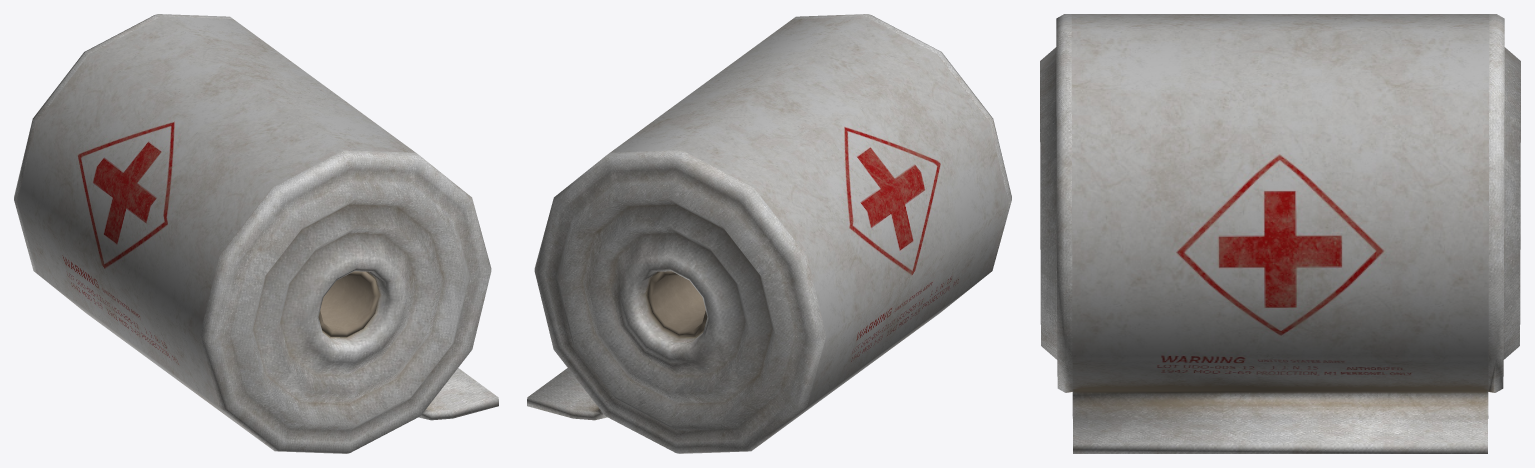
The model's file is bandage_roll.glb.
The picture shows the model from 3 angles, left to right: view 1: azimuth 30°, elevation 25°; view 2: azimuth 150°, elevation 25°; view 3: azimuth 270°, elevation 25°; orthographic projection. The views are drawn at different scales.
Visible parts, largest first — view 1: Cylinder.002; view 2: Cylinder.002; view 3: Cylinder.002.
Part boxes in pixels (x1,y1,x2,y2): Cylinder.002: [14, 14, 498, 453]; Cylinder.002: [527, 14, 1011, 453]; Cylinder.002: [1040, 14, 1520, 453].
Bounding box in the file's own units: 1.64 × 1.58 × 2.
Materials: 1 (1 with a texture image).
